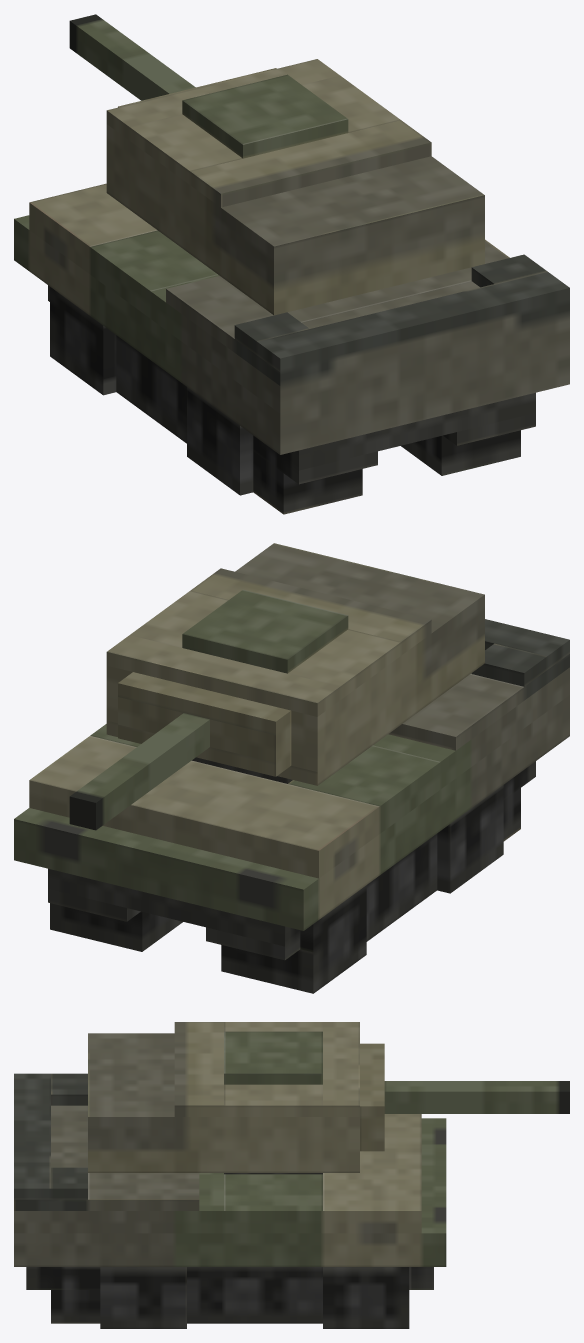
The model's file is TankB.fbx.
The picture shows the model from 3 angles, top to bottom: view 1: azimuth 30°, elevation 25°; view 2: azimuth 150°, elevation 25°; view 3: azimuth 270°, elevation 25°; orthographic projection. The views are drawn at different scales.
Visible parts, largest first — view 1: TankB; view 2: TankB; view 3: TankB.
Part boxes in pixels (bbox=[...]): TankB: bbox=[14, 14, 569, 514]; TankB: bbox=[14, 543, 569, 993]; TankB: bbox=[14, 1022, 569, 1328].
Bounding box in the file's own units: 22 × 20 × 45.
